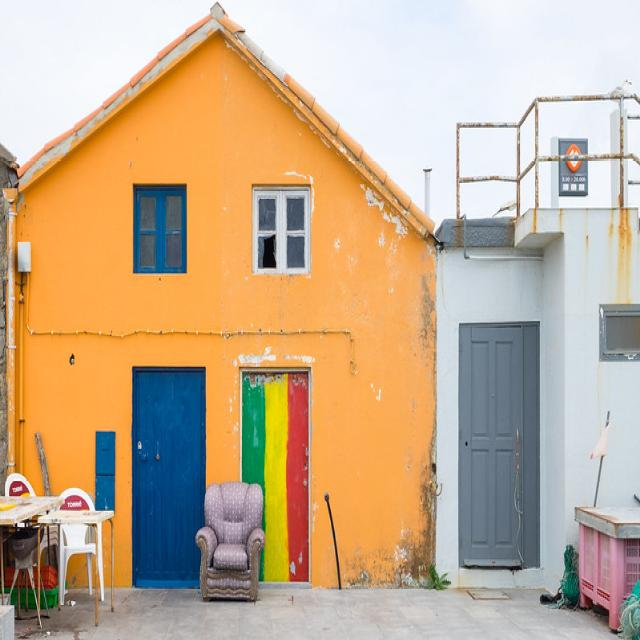building: (15, 7, 441, 593)
